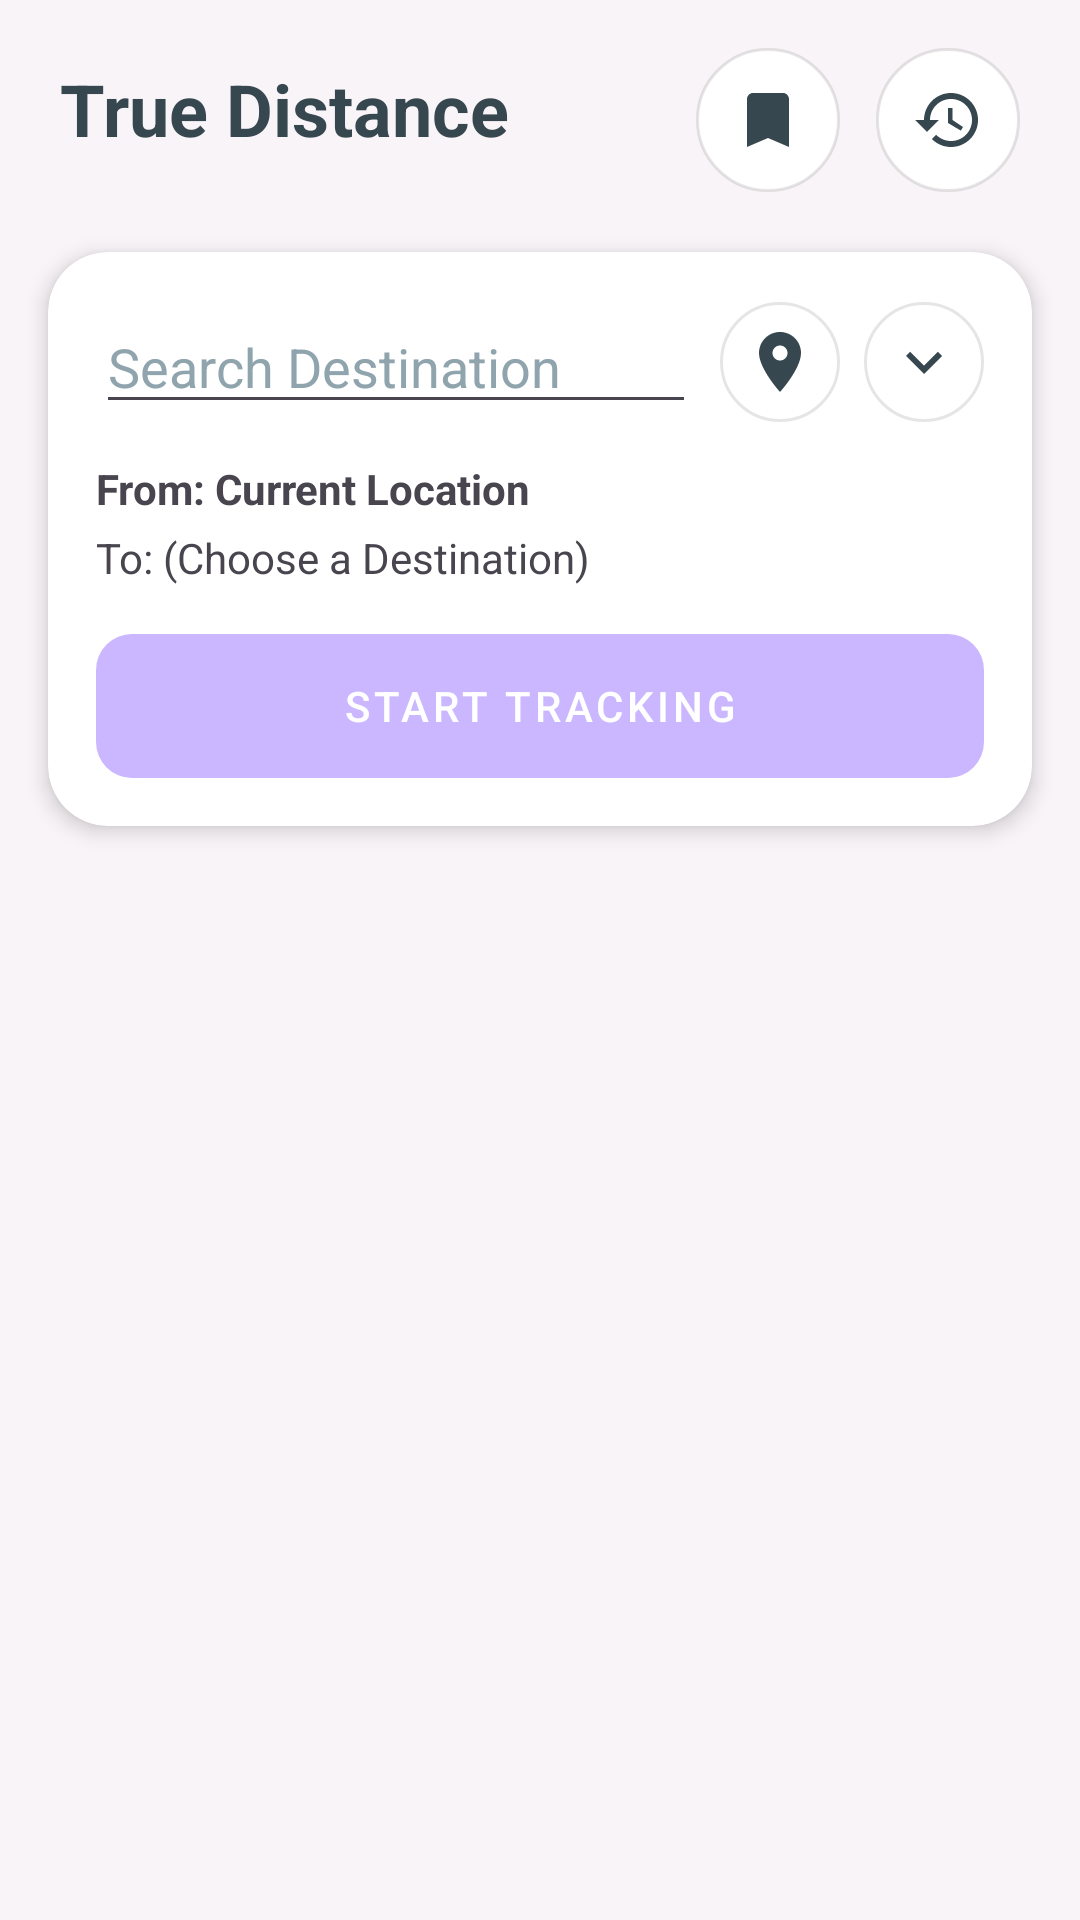

Icon click points for this 1080x1920 phone screenshot, format [x,y]:
bookmark: [768,120]
chevron down: [924,362]
Distance History: [948,120]
Pick on Map: [780,362]
